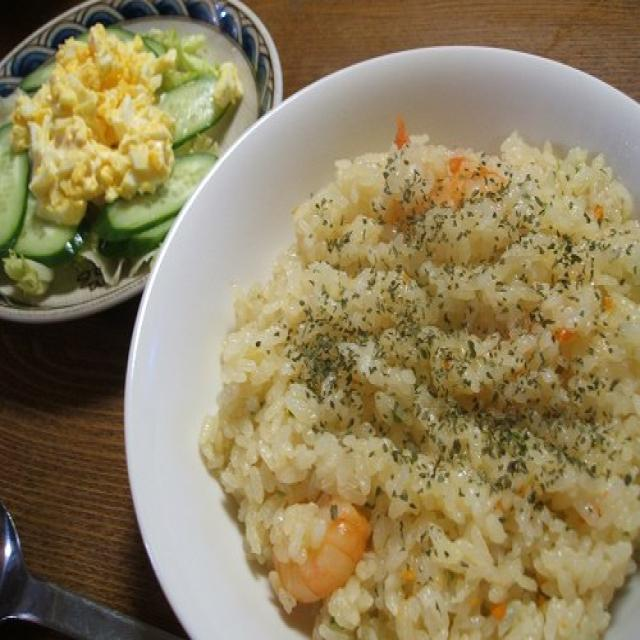米饭主食: (205, 111, 640, 640)
